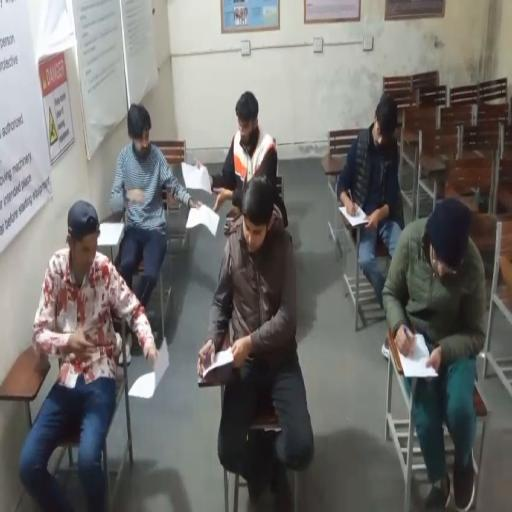paper: (399, 332, 438, 378), (186, 203, 220, 238), (200, 348, 234, 381), (181, 164, 215, 195), (150, 338, 169, 389), (128, 371, 156, 399), (338, 202, 369, 226)
